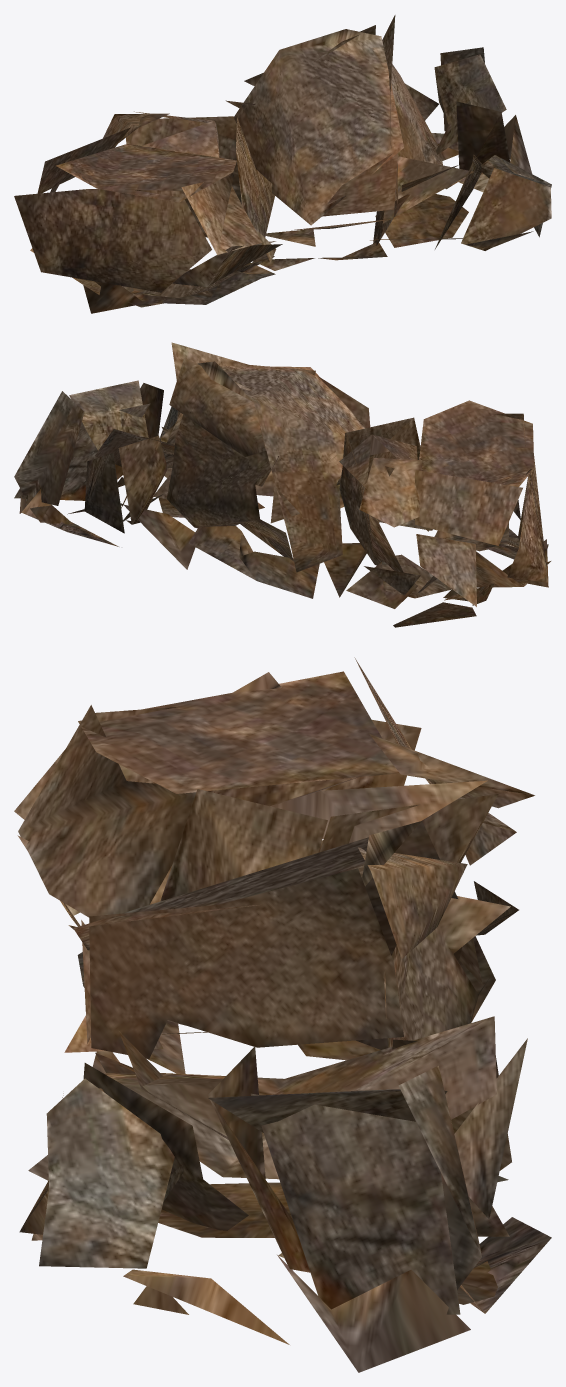
Rendered from ph_namaqualand_boulder_02.glb.
3 renders of one model, top to bottom at view 1: azimuth 30°, elevation 25°; view 2: azimuth 150°, elevation 25°; view 3: azimuth 270°, elevation 25°, orthographic. The views are drawn at different scales.
Visible parts, largest first — view 1: boulder_02; view 2: boulder_02; view 3: boulder_02.
Boxes of the visible parts, <box> form: boulder_02: <box>14,15,551,313</box>; boulder_02: <box>14,342,550,627</box>; boulder_02: <box>14,657,551,1372</box>.
Size of the model in its own units: 2.53 by 1.02 by 1.22.
1 material, 1 textured.
